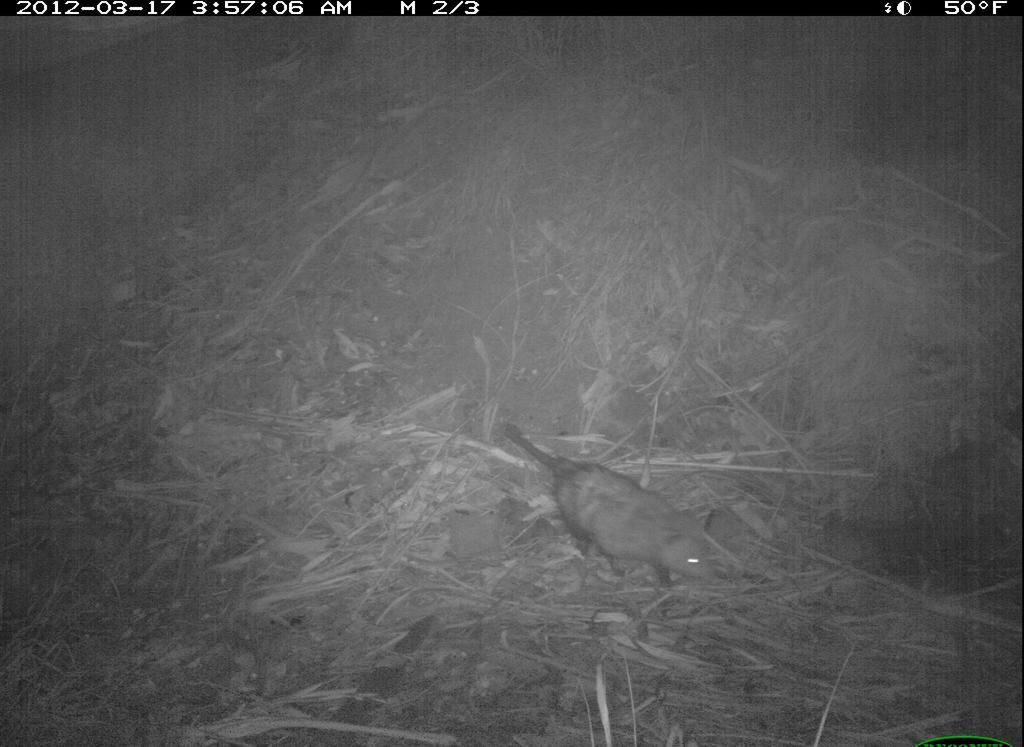opossum: (496, 415, 735, 589)
